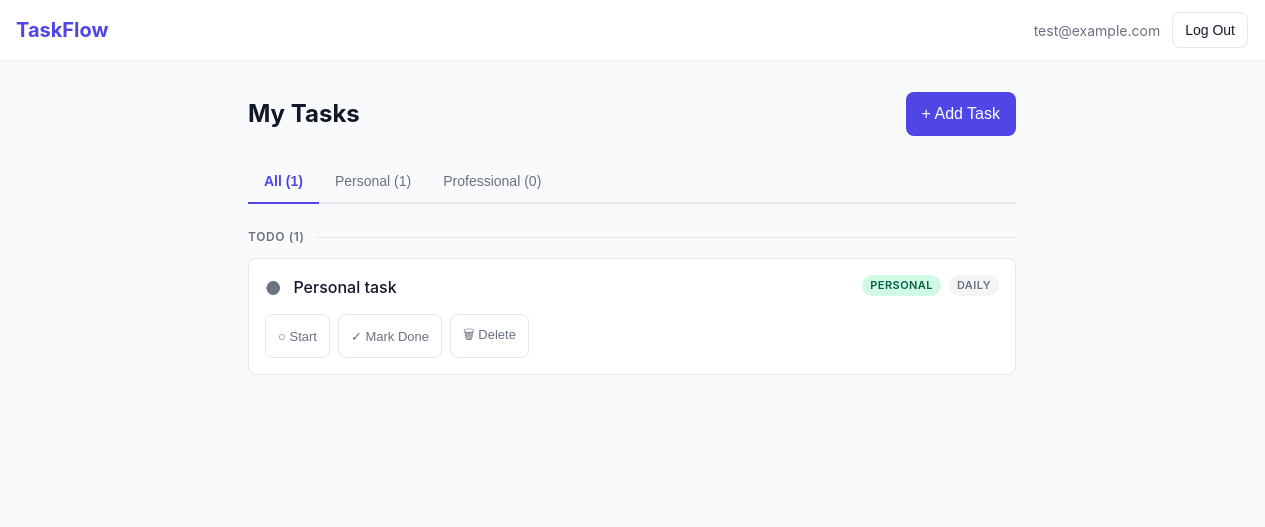
Scenario: Dashboard — task status updates and deletes › deleted task is removed from list
Expected: the text "Personal task" is shown, [294,277,397,297]
Click the button with aria-label "delete task": (489, 336) [450,314,529,358]
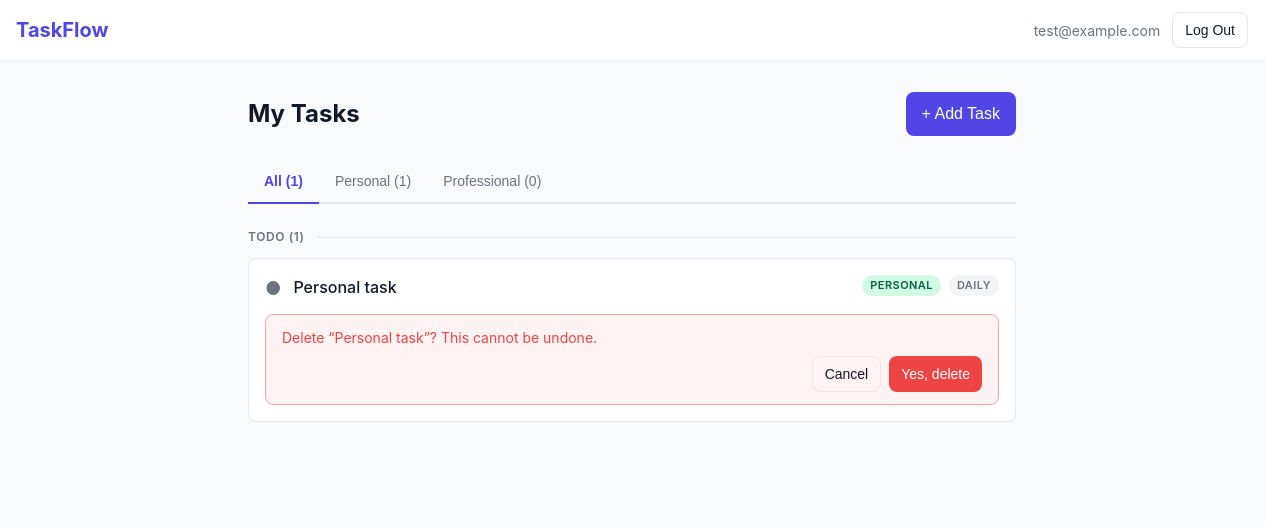
Click the button with aria-label "confirm delete": (936, 374) [889,356,982,392]
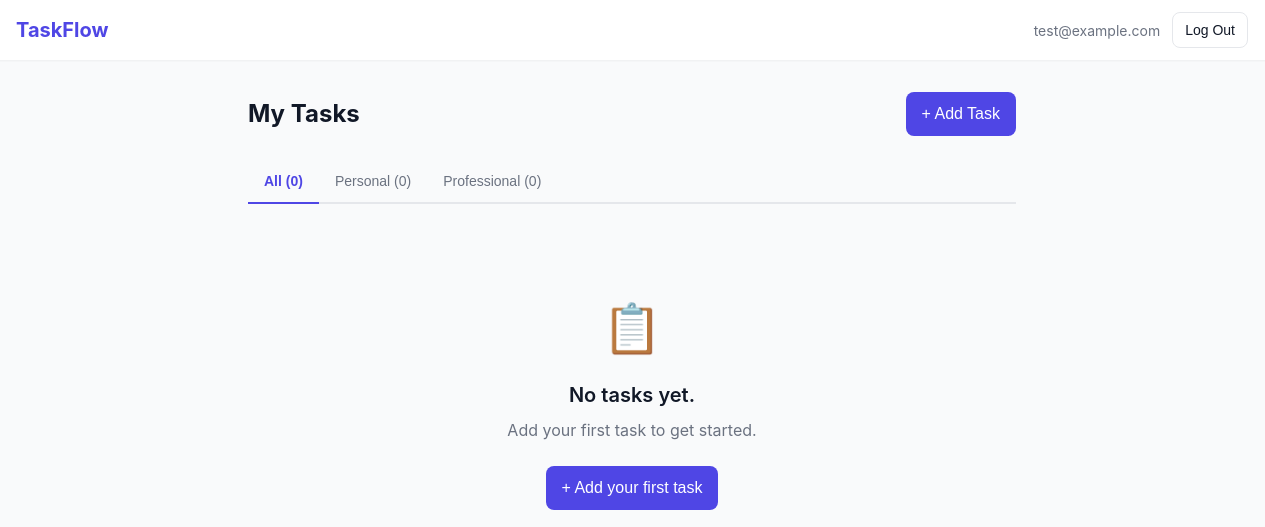
Now the text "Personal task" is gone
